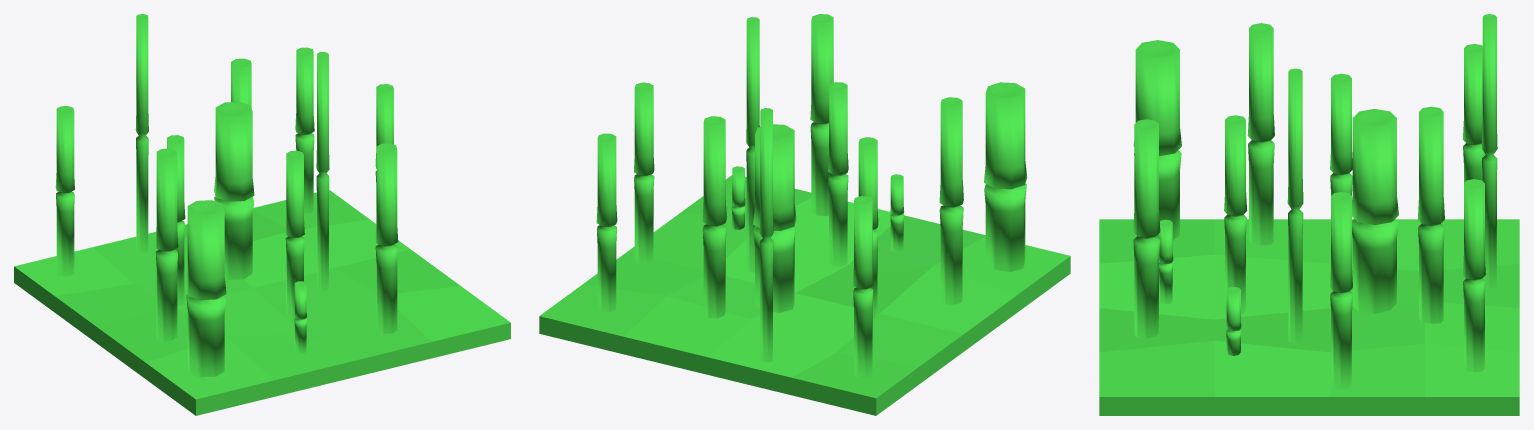
Rendered from TallGrass.fbx.
3 views of the same model, side by side, from view 1: azimuth 30°, elevation 25°; view 2: azimuth 150°, elevation 25°; view 3: azimuth 270°, elevation 25° (orthographic). The views are drawn at different scales.
Visible parts, largest first — view 1: Cube; view 2: Cube; view 3: Cube.
Boxes of the visible parts, x1,y1,x2,y2 form: Cube: [14, 14, 510, 415]; Cube: [539, 14, 1070, 415]; Cube: [1099, 14, 1519, 415].
Size of the model in its own units: 200 by 150 by 200.
